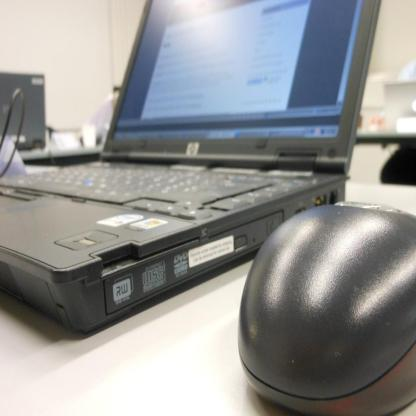board: (0, 0, 385, 335)
